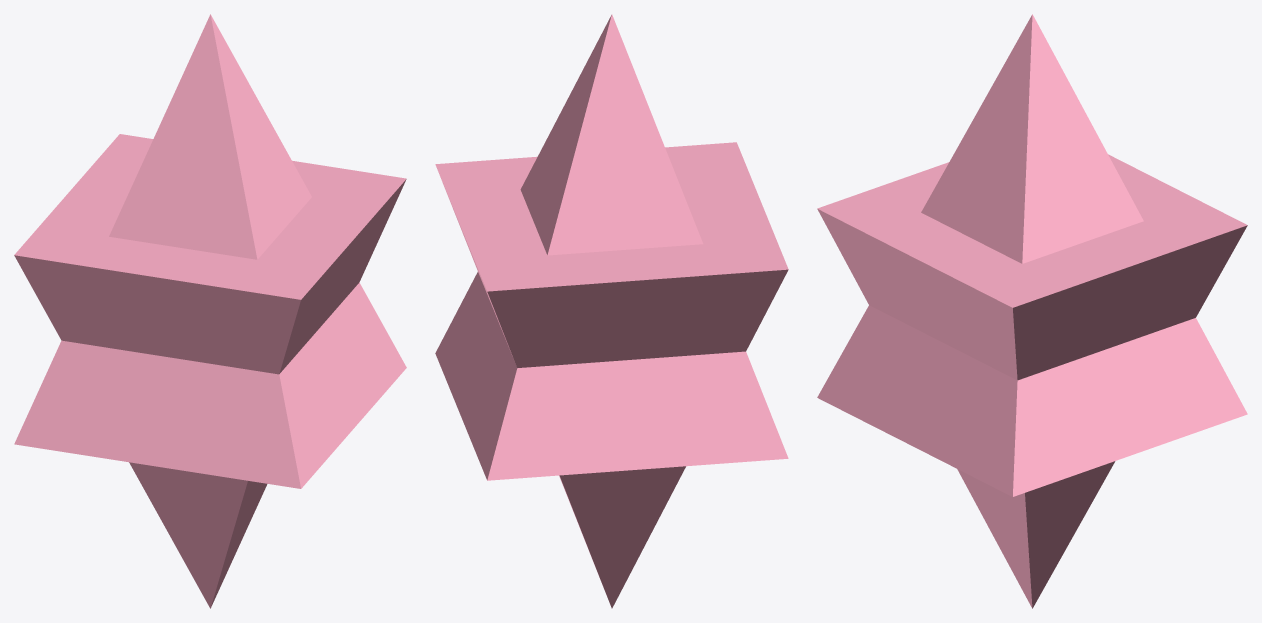
3 renders of one model, left to right at view 1: azimuth 30°, elevation 25°; view 2: azimuth 150°, elevation 25°; view 3: azimuth 270°, elevation 25°, orthographic.
Visible parts, largest first — view 1: mesh_id27, mesh_id33; view 2: mesh_id27, mesh_id33; view 3: mesh_id27, mesh_id33.
Part boxes in pixels (x1,y1,x2,y2): mesh_id27: [14, 14, 406, 488]; mesh_id33: [14, 134, 406, 608]; mesh_id27: [435, 14, 788, 480]; mesh_id33: [435, 142, 788, 608]; mesh_id27: [817, 14, 1247, 496]; mesh_id33: [817, 154, 1247, 608].
Bounding box in the file's own units: 0.1992 × 0.3035 × 0.1992.
2 materials, 2 textured.
